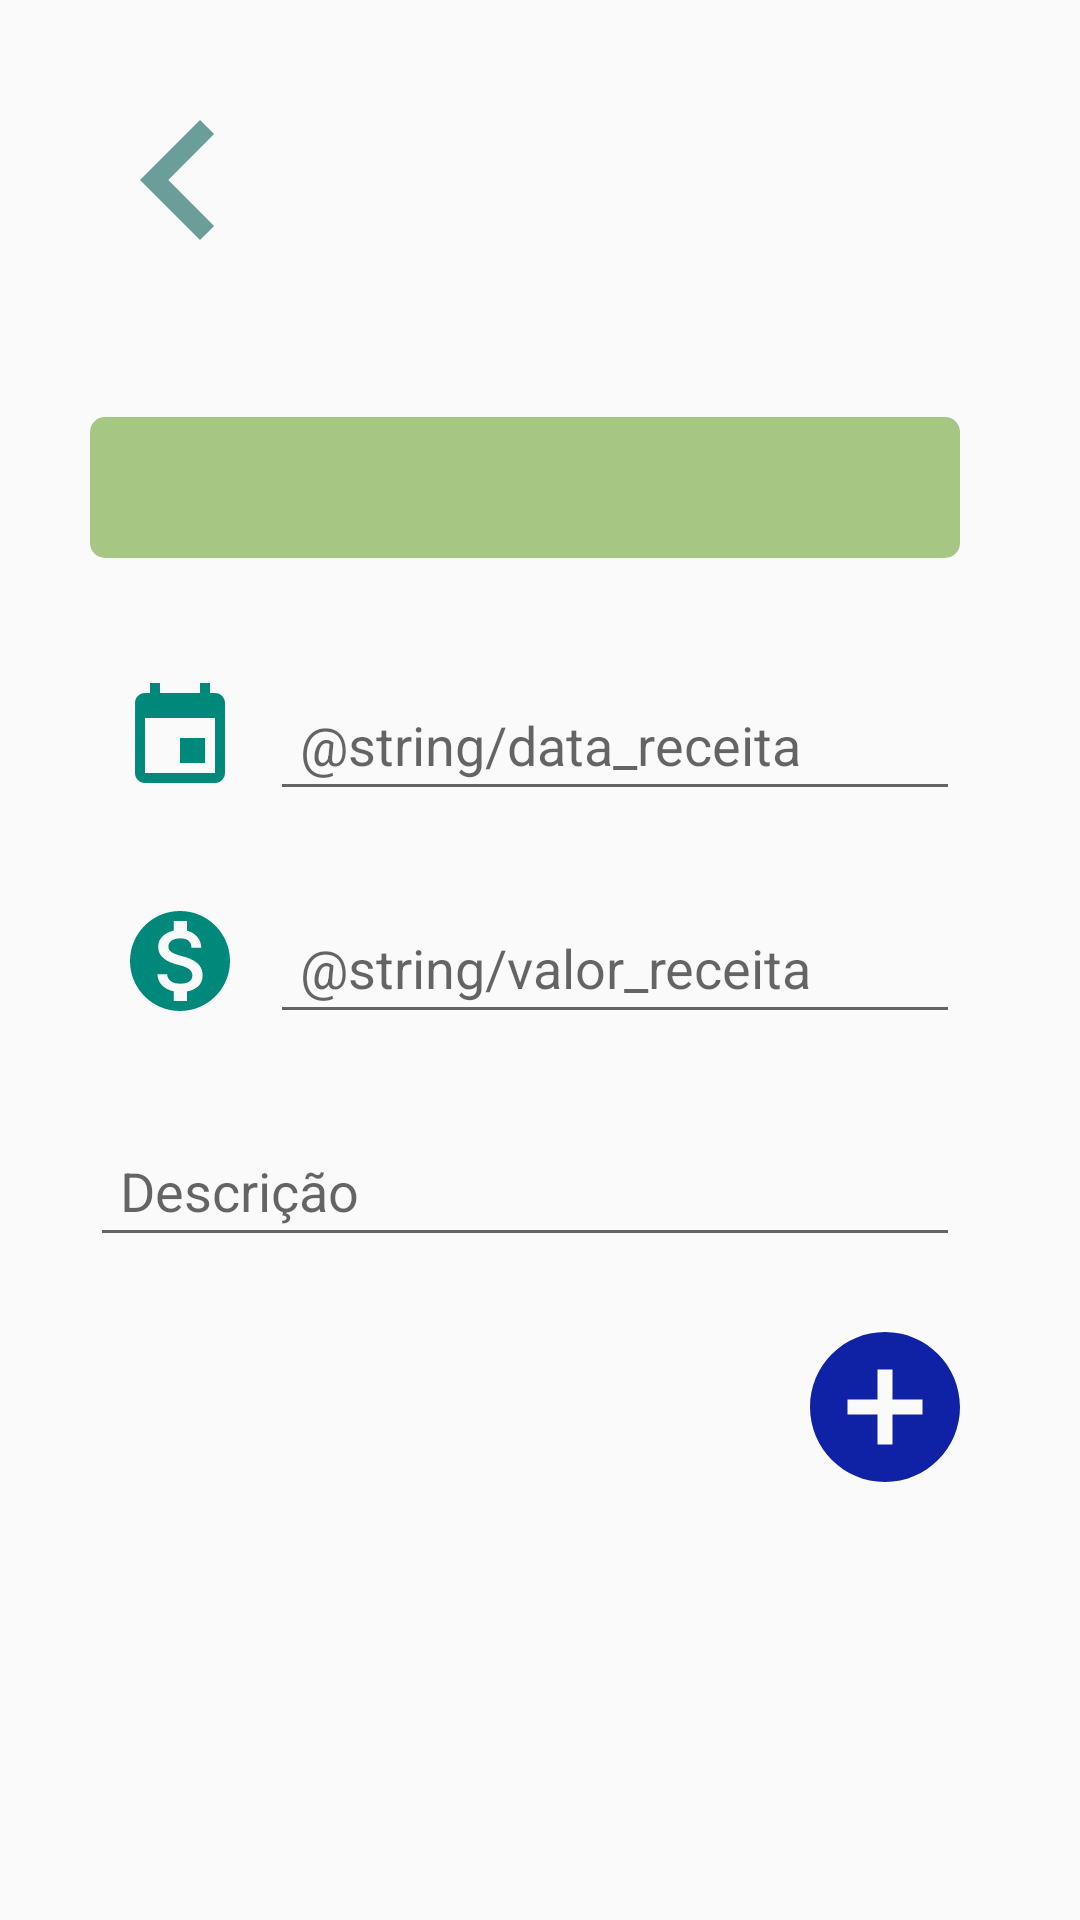

Screen size 1080*1920. Icon name, then its box in pixels as bbox(x1, y1, x2, y2):
adicionar receita: bbox(810, 1332, 960, 1482)
calendario: bbox(135, 683, 225, 783)
money: bbox(130, 911, 230, 1011)
navigate before: bbox(140, 120, 214, 240)
